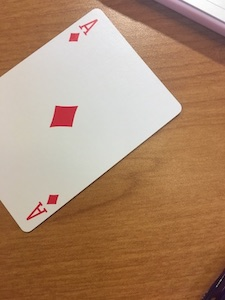AceOfDiamonds: (1, 5, 185, 235)
